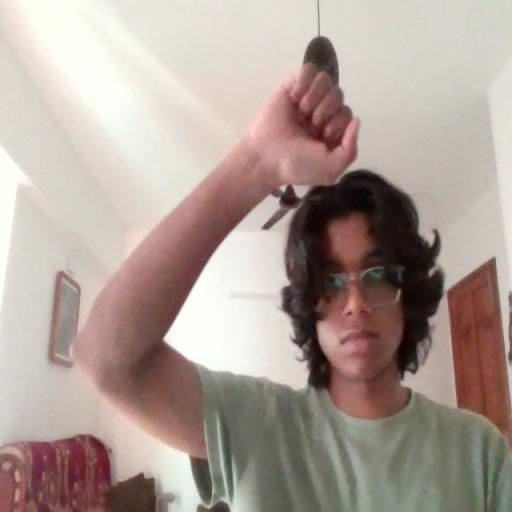Rock: (257, 61, 364, 182)
